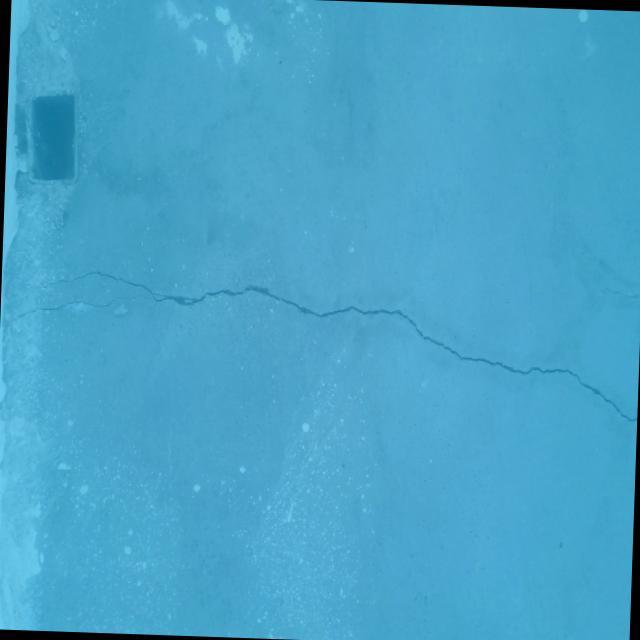crack: (10, 265, 640, 422)
